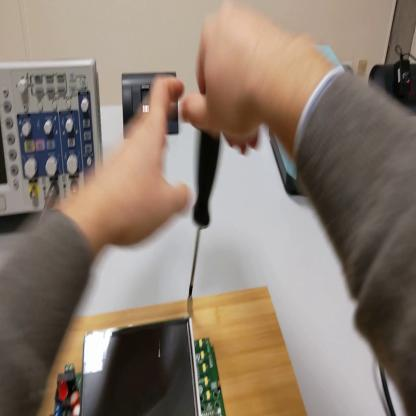hand: (92, 74, 193, 245), (180, 8, 282, 155)
low voltage board: (54, 316, 225, 410)
oscilloscope: (1, 63, 104, 216)
screwdriver-: (188, 127, 218, 300)
socket: (370, 62, 416, 107)
welder station: (271, 44, 346, 194)
working area: (30, 288, 305, 413)
